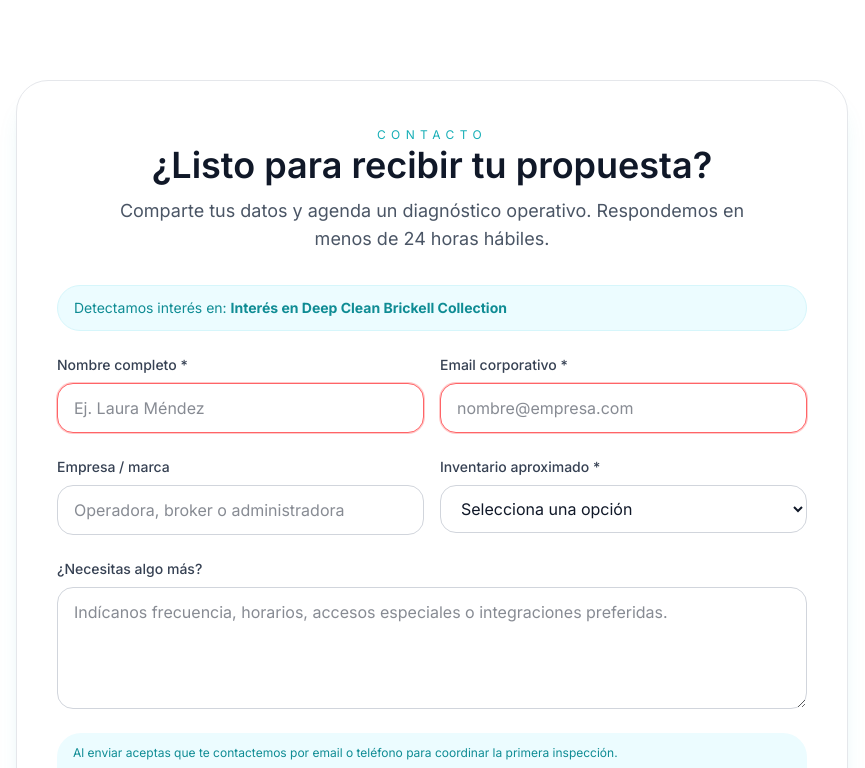
LeadCaptureForm › muestra fallback amigable cuando la API responde con error
This screenshot has width=865, height=768.
Type "Lucía Error" into the field labelled "Nombre completo *" at (240, 408), box [57, 383, 424, 433]
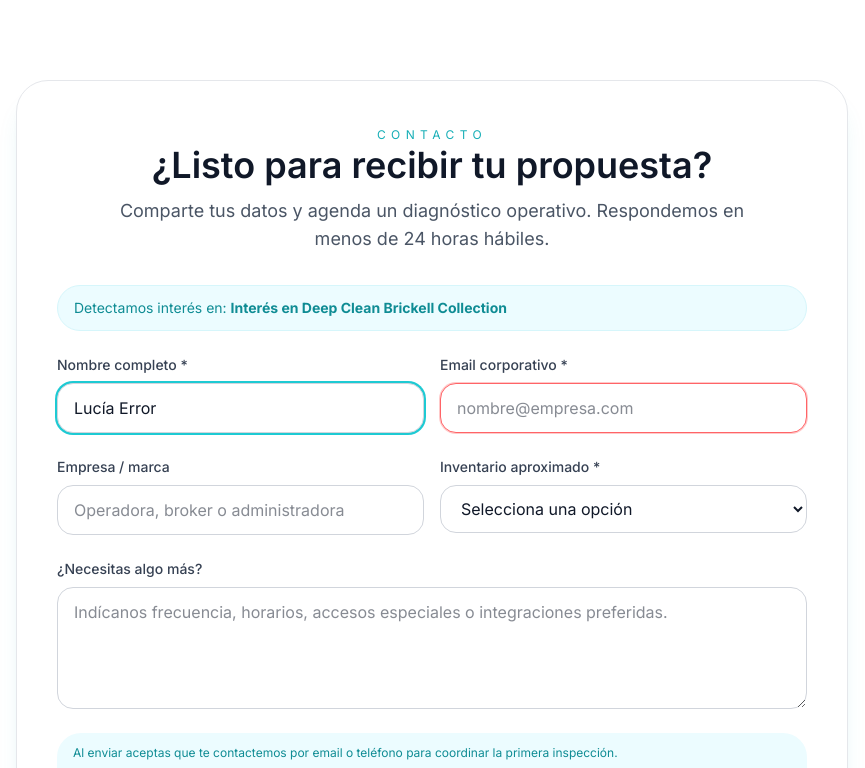
Type "lucia@example.com" into the field labelled "Email corporativo *" at (624, 408), box [440, 383, 807, 433]
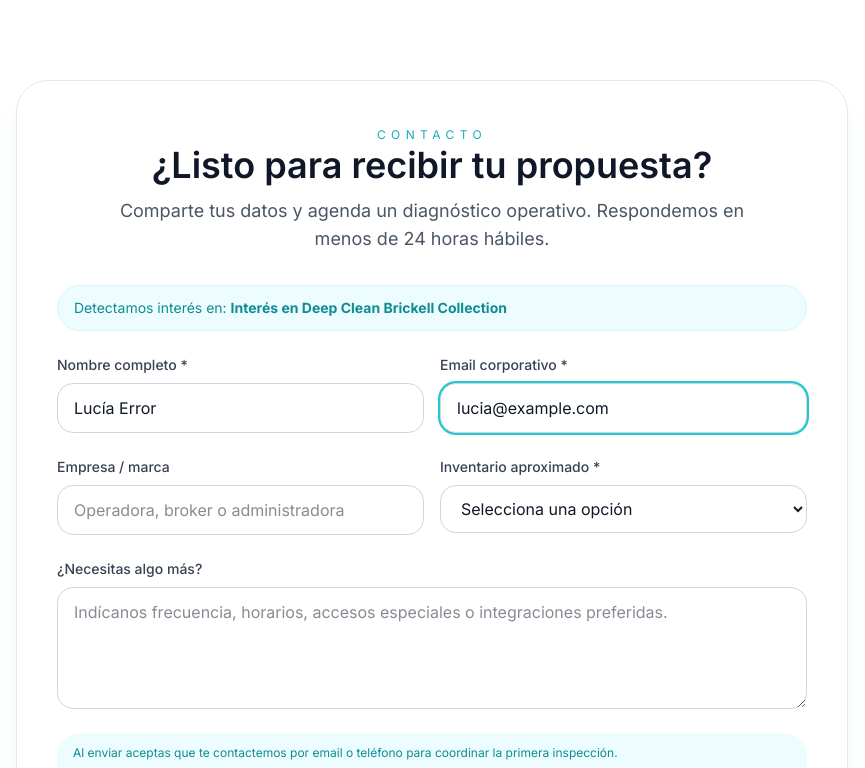
Select "1-5 unidades" in the dropdown labelled "Inventario aproximado *" at (624, 509), box [440, 485, 807, 533]
(page scrolled)
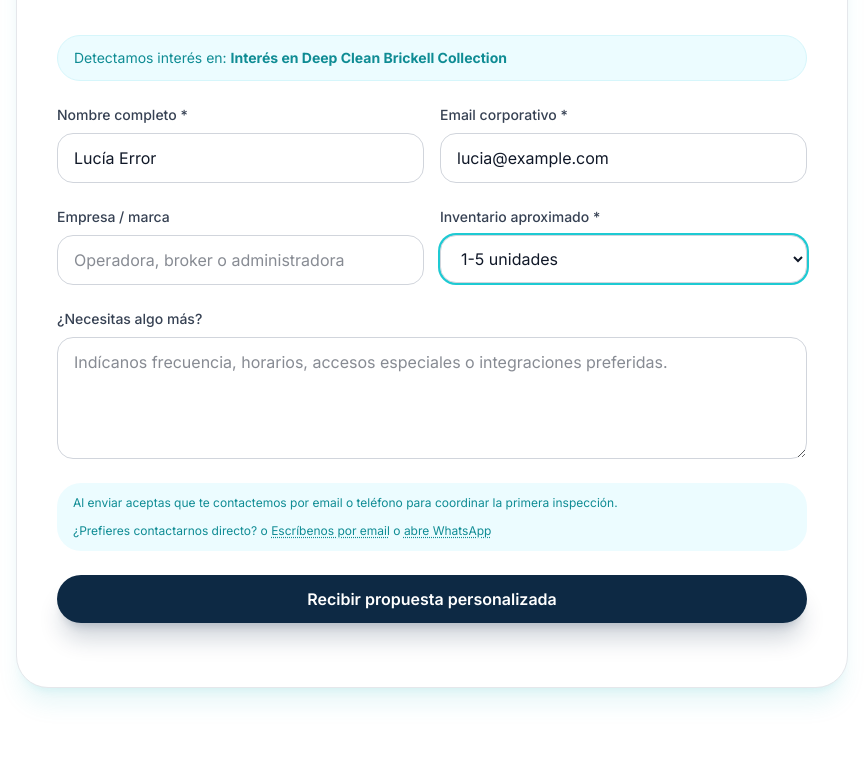
Click the button "Recibir propuesta personalizada" at (432, 599), box [57, 575, 807, 623]
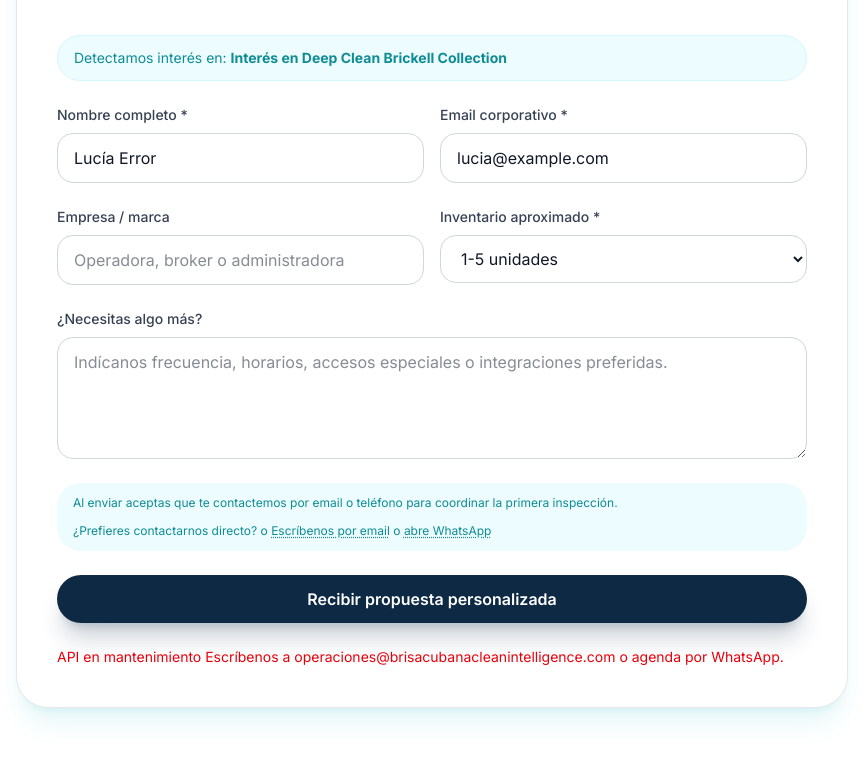
Now the message shows "API en mantenimiento Escríbenos a operaciones@brisacubanacleanintelligence.com o agenda por WhatsApp.", box [57, 648, 784, 665]
